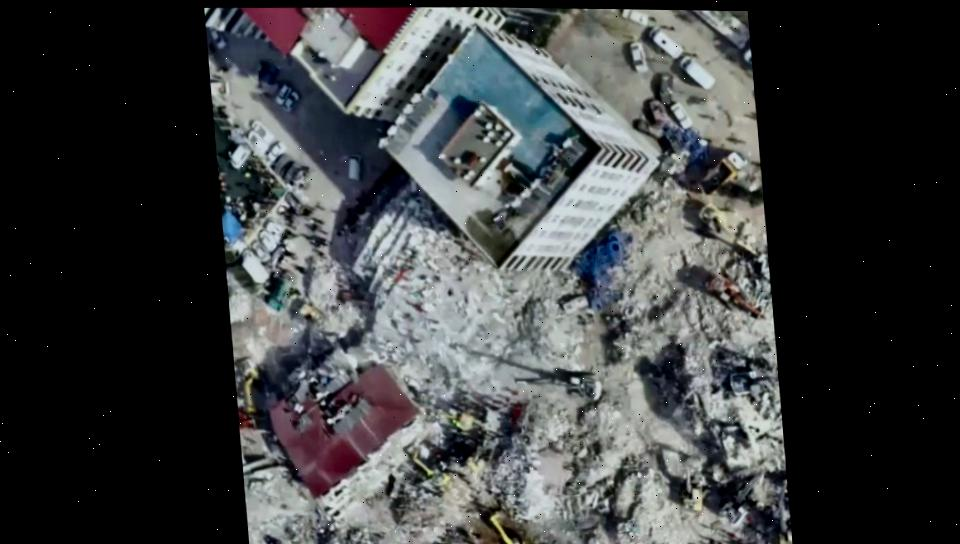kapali: (314, 144, 695, 544)
